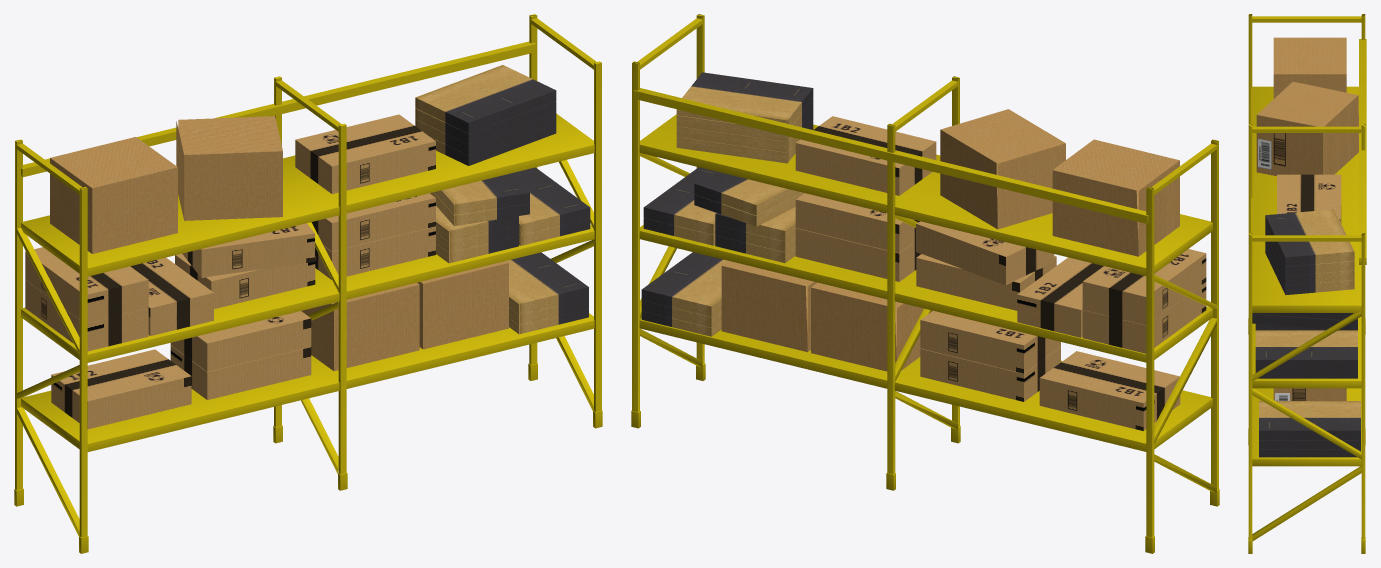
The model's file is rack_d.glb.
3 views of the same model, side by side, from view 1: azimuth 30°, elevation 25°; view 2: azimuth 150°, elevation 25°; view 3: azimuth 270°, elevation 25° (orthographic). The views are drawn at different scales.
Visible parts, largest first — view 1: aws_robomaker_warehouse_ShelfD_01_visual-lib, aws_robomaker_warehouse_ShelfD_01_visual-lib_2, aws_robomaker_warehouse_ShelfD_01_visual-lib_1, aws_robomaker_warehouse_ShelfD_01_visual-lib_3; view 2: aws_robomaker_warehouse_ShelfD_01_visual-lib, aws_robomaker_warehouse_ShelfD_01_visual-lib_2, aws_robomaker_warehouse_ShelfD_01_visual-lib_1, aws_robomaker_warehouse_ShelfD_01_visual-lib_3; view 3: aws_robomaker_warehouse_ShelfD_01_visual-lib, aws_robomaker_warehouse_ShelfD_01_visual-lib_3, aws_robomaker_warehouse_ShelfD_01_visual-lib_1, aws_robomaker_warehouse_ShelfD_01_visual-lib_2.
Part boxes in pixels (<box>): aws_robomaker_warehouse_ShelfD_01_visual-lib: <box>14,14,602,553</box>; aws_robomaker_warehouse_ShelfD_01_visual-lib_2: <box>25,114,435,429</box>; aws_robomaker_warehouse_ShelfD_01_visual-lib_1: <box>50,116,508,371</box>; aws_robomaker_warehouse_ShelfD_01_visual-lib_3: <box>415,65,590,334</box>; aws_robomaker_warehouse_ShelfD_01_visual-lib: <box>631,14,1219,553</box>; aws_robomaker_warehouse_ShelfD_01_visual-lib_2: <box>795,116,1206,430</box>; aws_robomaker_warehouse_ShelfD_01_visual-lib_1: <box>721,109,1179,371</box>; aws_robomaker_warehouse_ShelfD_01_visual-lib_3: <box>641,72,813,336</box>; aws_robomaker_warehouse_ShelfD_01_visual-lib: <box>1248,14,1366,553</box>; aws_robomaker_warehouse_ShelfD_01_visual-lib_3: <box>1252,209,1360,457</box>; aws_robomaker_warehouse_ShelfD_01_visual-lib_1: <box>1256,37,1358,400</box>; aws_robomaker_warehouse_ShelfD_01_visual-lib_2: <box>1277,174,1341,223</box>.
Bounding box in the file's own units: 3.92 × 2.61 × 0.8795.
4 materials, 4 textured.
